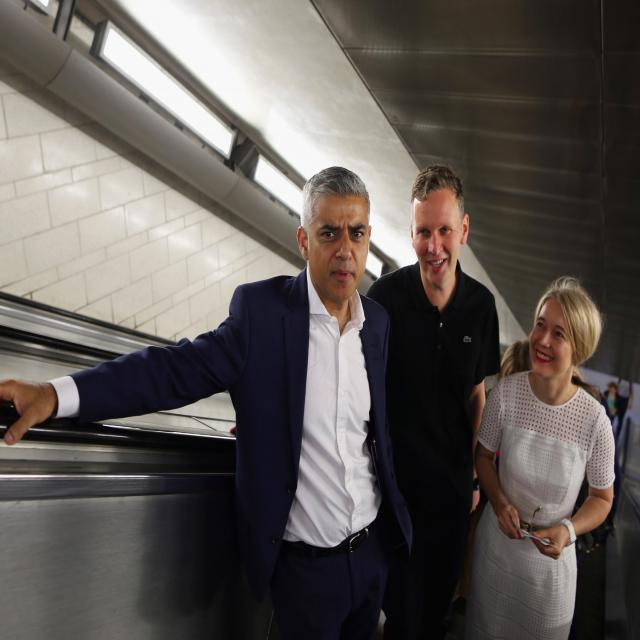body: (0, 152, 422, 640), (359, 162, 507, 640), (464, 278, 616, 640), (571, 517, 612, 640), (606, 359, 634, 453), (496, 338, 533, 384), (602, 380, 622, 450), (499, 335, 530, 373)
